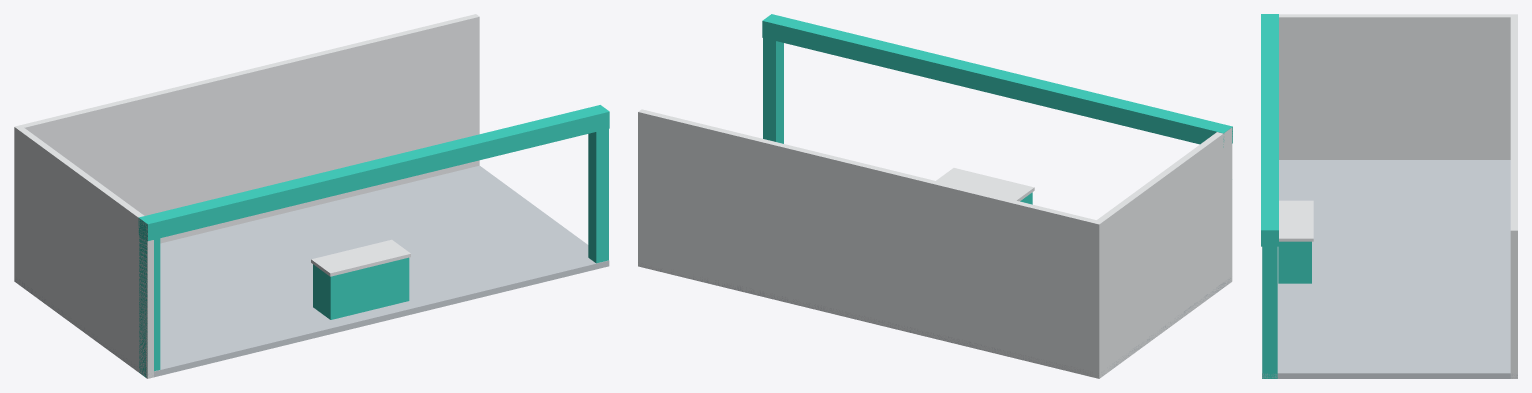
3 views of the same model, side by side, from view 1: azimuth 30°, elevation 25°; view 2: azimuth 150°, elevation 25°; view 3: azimuth 270°, elevation 25° (orthographic). The views are drawn at different scales.
Visible parts, largest first — view 1: Exhibition Booth Concept; view 2: Exhibition Booth Concept; view 3: Exhibition Booth Concept.
Part boxes in pixels (x1,y1,x2,y2): Exhibition Booth Concept: [14, 14, 609, 378]; Exhibition Booth Concept: [638, 14, 1232, 378]; Exhibition Booth Concept: [1261, 14, 1517, 378].
Size of the model in its own units: 10 by 3.2 by 5.02.
